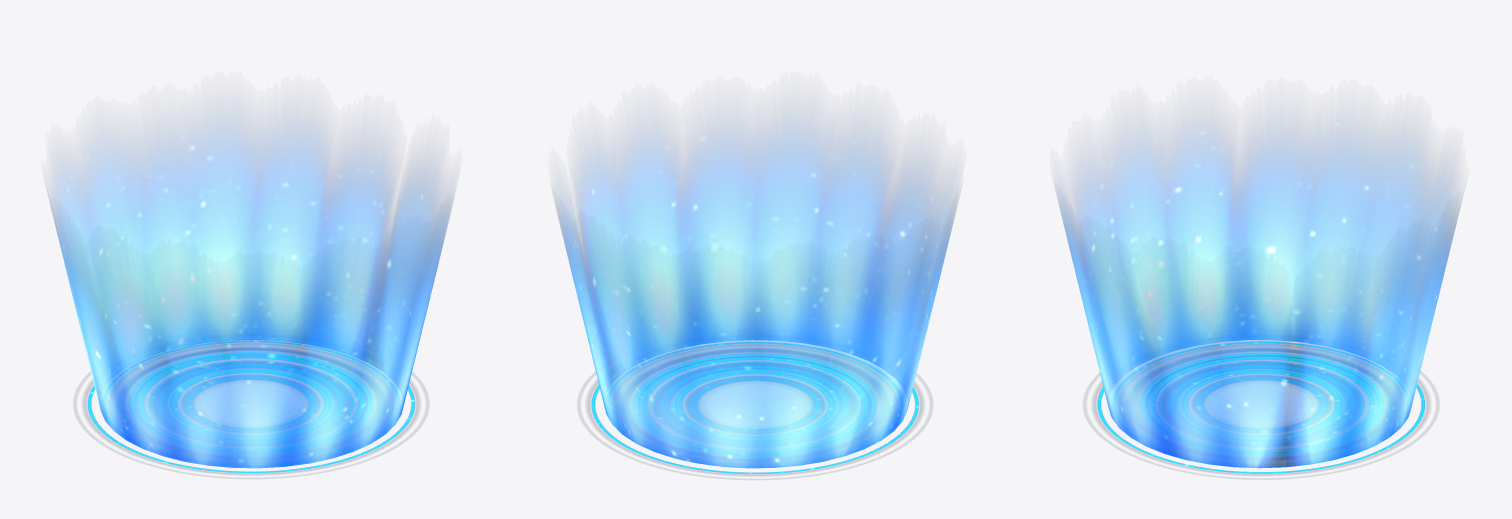
File: portal-glow.glb
3 renders of one model, left to right at view 1: azimuth 30°, elevation 25°; view 2: azimuth 150°, elevation 25°; view 3: azimuth 270°, elevation 25°, orthographic.
Visible parts, largest first — view 1: polySurface1, polySurface2; view 2: polySurface1, polySurface2; view 3: polySurface1, polySurface2.
Boxes of the visible parts, x1,y1,x2,y2 form: polySurface1: (47,114,453,468); polySurface2: (74,341,427,474); polySurface1: (554,114,958,468); polySurface2: (578,342,931,475); polySurface1: (1056,120,1462,468); polySurface2: (1085,341,1437,475).
Bounding box in the file's own units: 5.83 × 4.01 × 5.83.
1 material, 1 textured.
